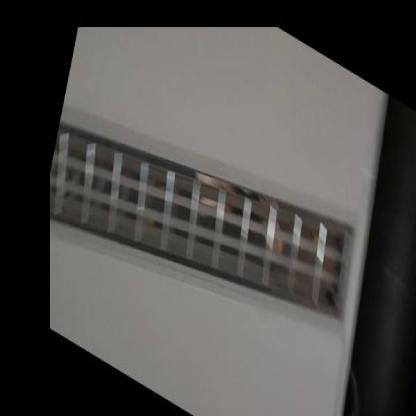light_off: (41, 38, 372, 411)
